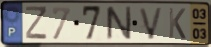7: (81, 4, 104, 43), (51, 5, 73, 41)
K: (167, 6, 187, 41)
N: (104, 5, 133, 42)
V: (138, 6, 165, 41)
Z: (25, 5, 49, 41)
